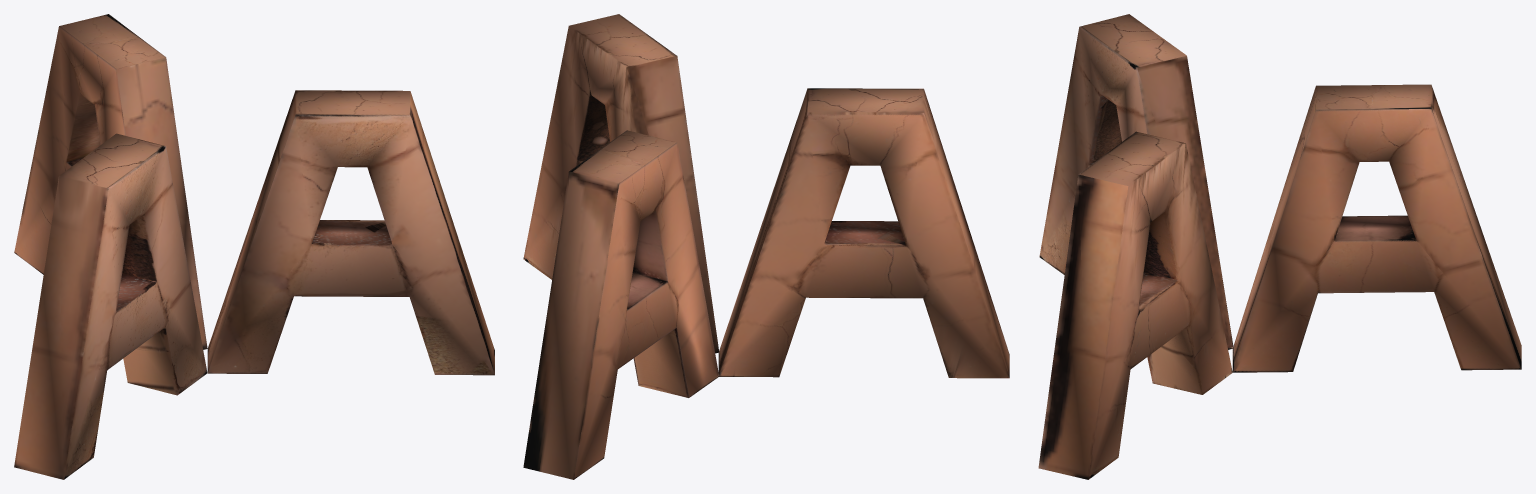
Rendered from A_harfi.fbx.
The picture shows the model from 3 angles, left to right: view 1: azimuth 30°, elevation 25°; view 2: azimuth 150°, elevation 25°; view 3: azimuth 270°, elevation 25°; orthographic projection.
Visible parts, largest first — view 1: input; view 2: input; view 3: input.
Part boxes in pixels (x1,y1,x2,y2): input: [14, 14, 494, 479]; input: [523, 14, 1009, 479]; input: [1038, 14, 1521, 479].
Size of the model in its own units: 200 by 105 by 173.
1 material, 1 textured.
